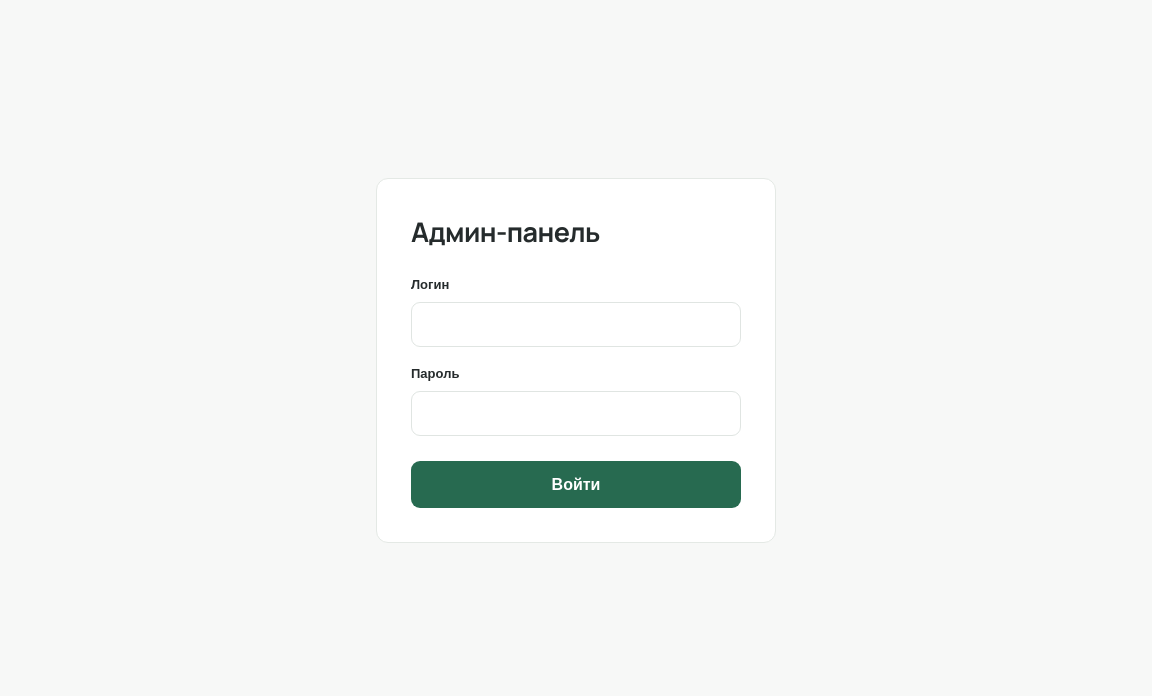
Test: админка › вход → таблица со стихами и счётчиками
Type "admin" into the field labelled "Логин".
click(576, 324); type("admin")  # box [411, 302, 741, 346]
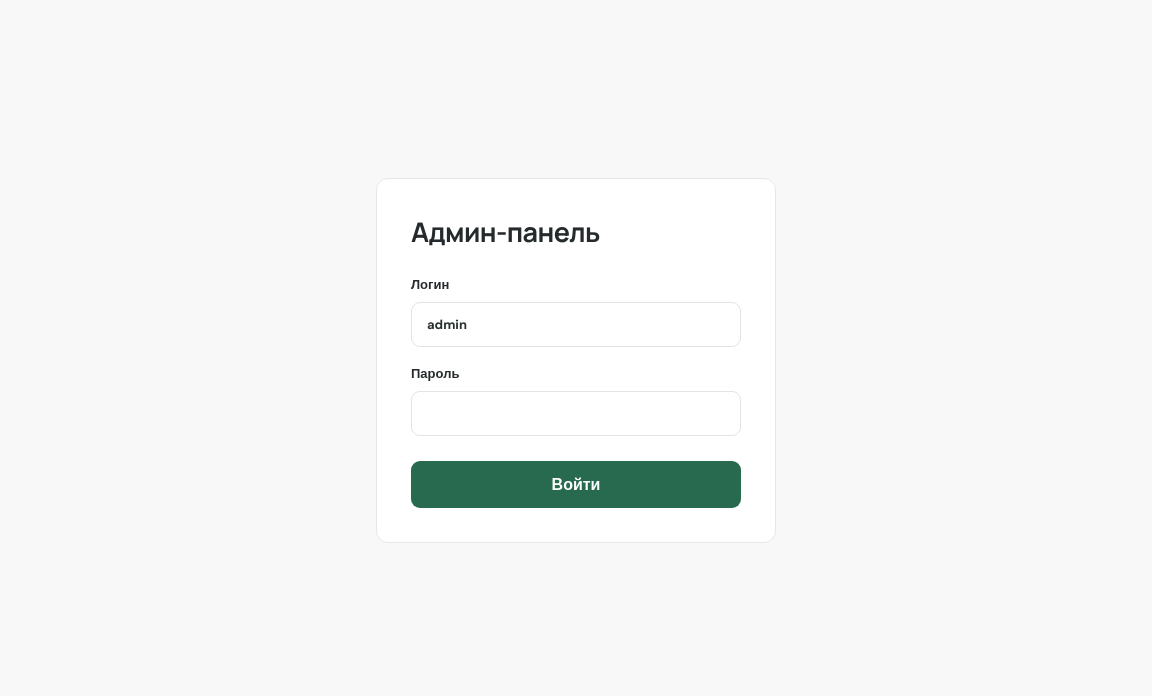
Type "secret-secret-1" into the password field labelled "Пароль".
click(576, 413); type("secret-secret-1")  # box [411, 390, 741, 436]
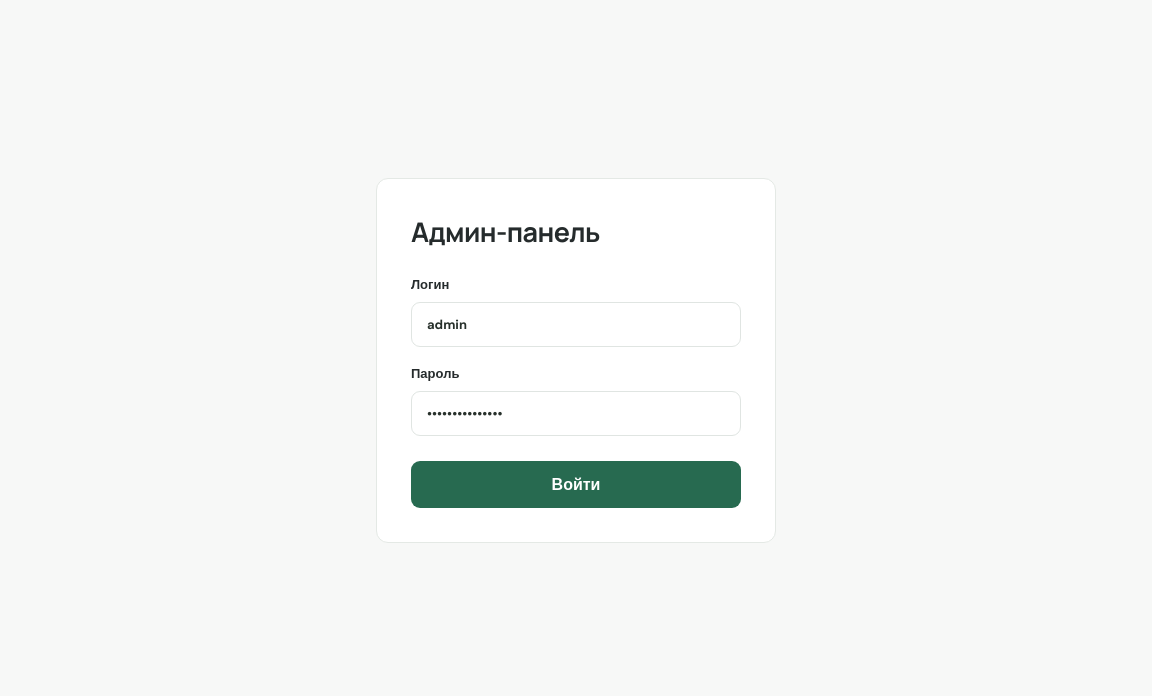
Click the button "Войти".
click(576, 484)  # box [411, 460, 741, 508]
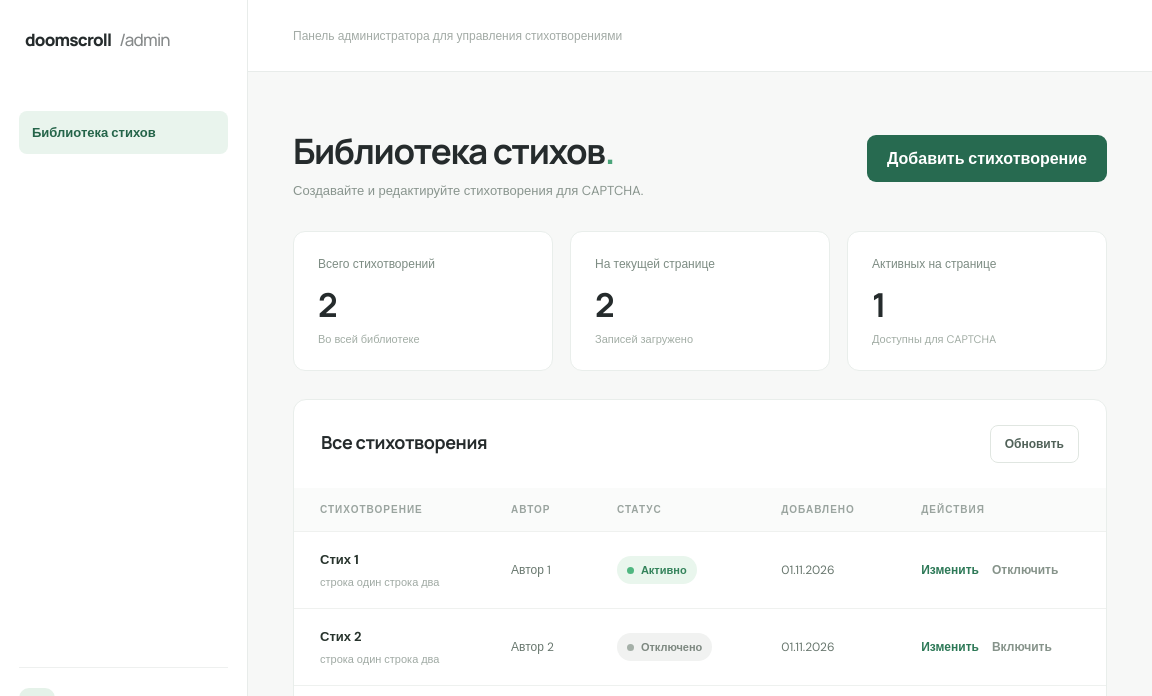
Expected: the text "Стих 1" is shown, [320, 551, 359, 568]
Expected: the text "Стих 2" is shown, [320, 628, 362, 645]
Expected: the text "Активно" is shown, [617, 556, 697, 584]
